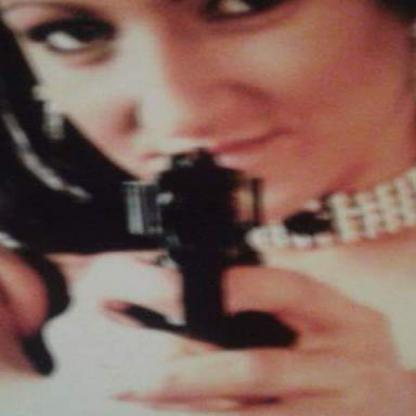gun: (123, 144, 291, 348)
